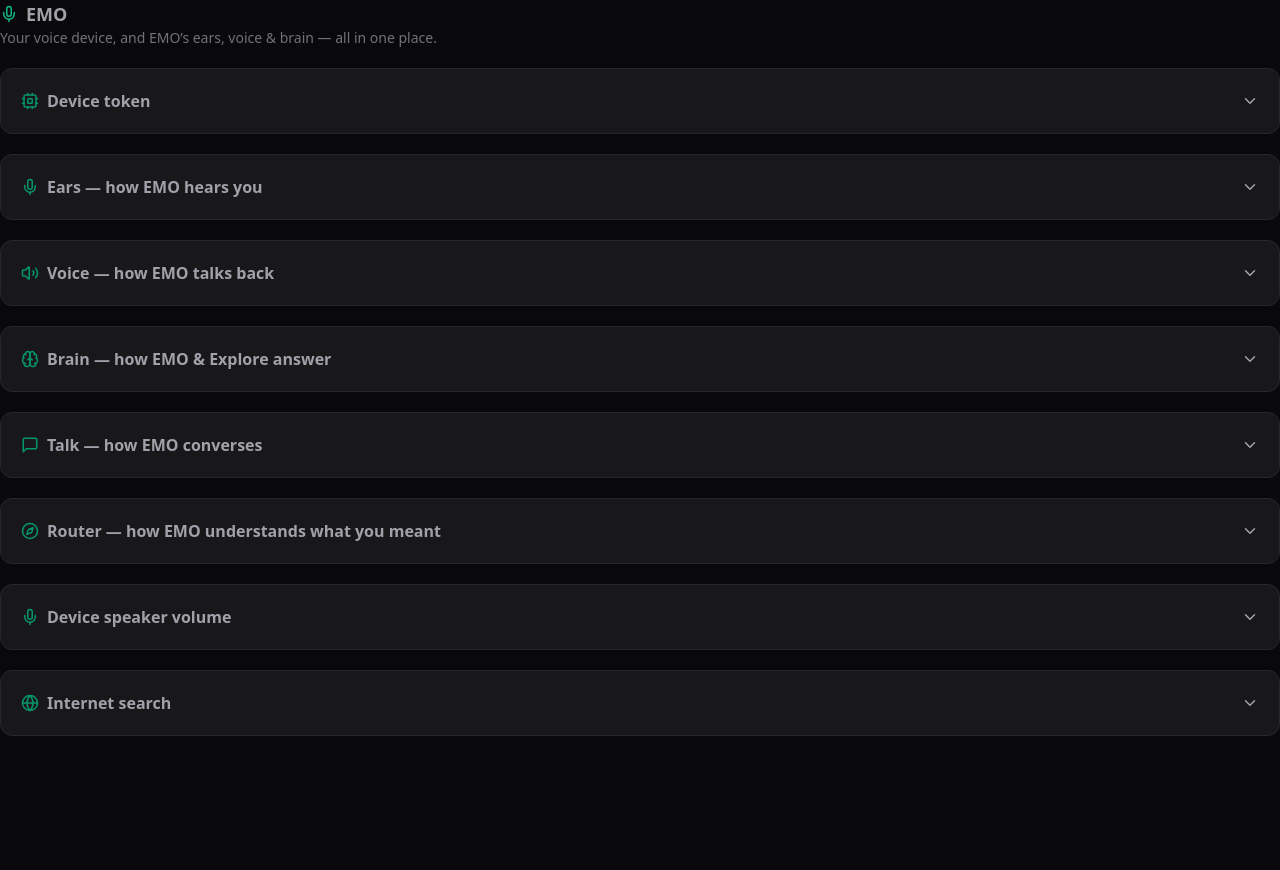
Test: Settings → EMO → Device token (DEVICE-TOKEN-ROTATION) › masks the current key and reveals it on Show
Click the button "Device token": (99, 101) [1, 69, 1279, 133]
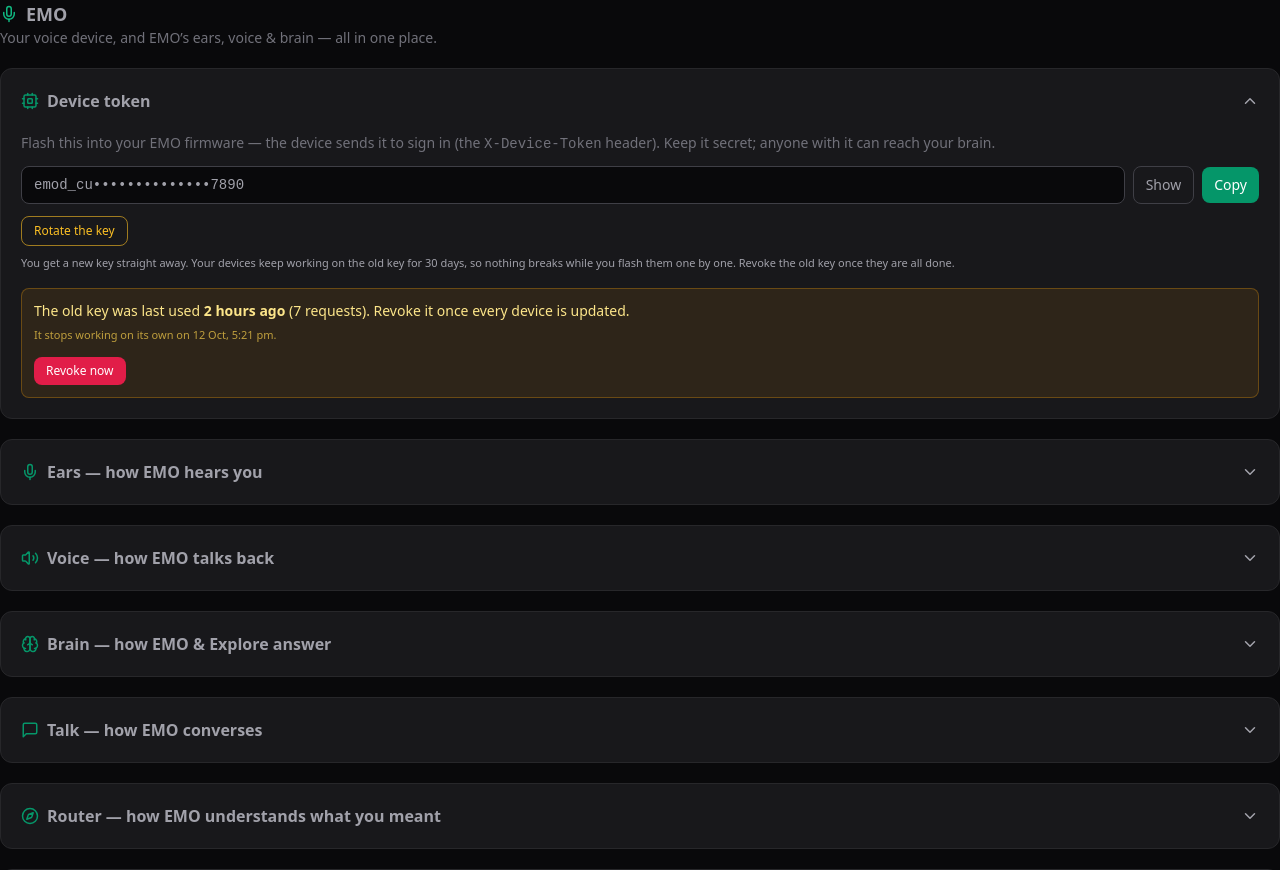
Click the button "Show": (1163, 185) [1133, 166, 1194, 204]
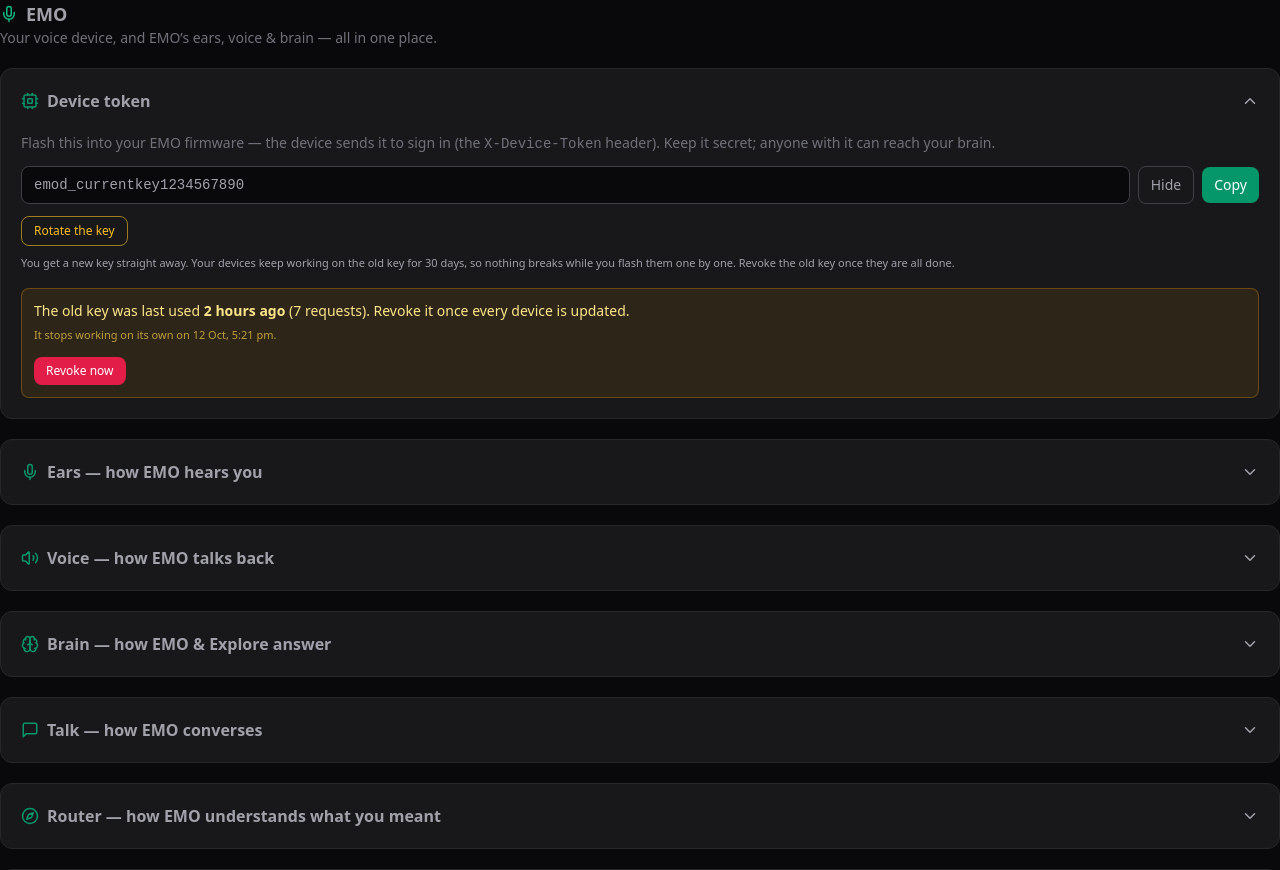
Now the field showing "emod_cu••••••••••••••7890" holds "emod_currentkey1234567890", box [21, 166, 1130, 204]
